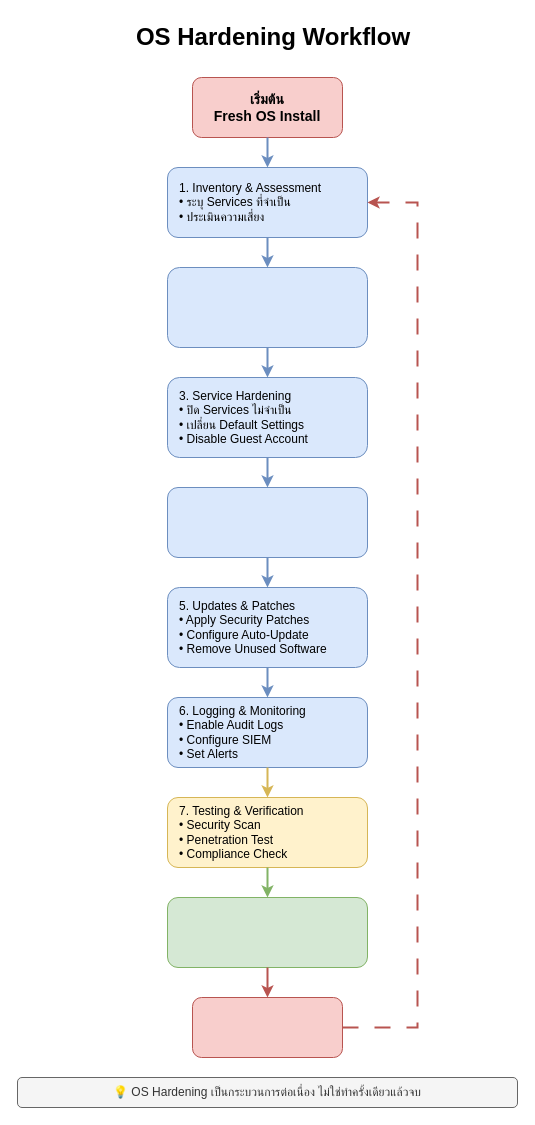
Some shapes in this 535 by 1125 pixel diagram are drawn without their labels. The box of each missing label's shape, as (x1, y1, x2, y2) in pixels:
2. User Management • สร้าง Users • ตั้ง Password Policy • Configure MFA: (166, 266, 368, 348)
4. Firewall Configuration • Default Deny • Allow Required Ports • Test Rules: (166, 486, 368, 558)
8. Documentation • บันทึกการตั้งค่า • สร้าง Baseline • Update Procedures: (166, 896, 368, 968)
Continuous Monitoring & Improvement: (192, 996, 342, 1058)
